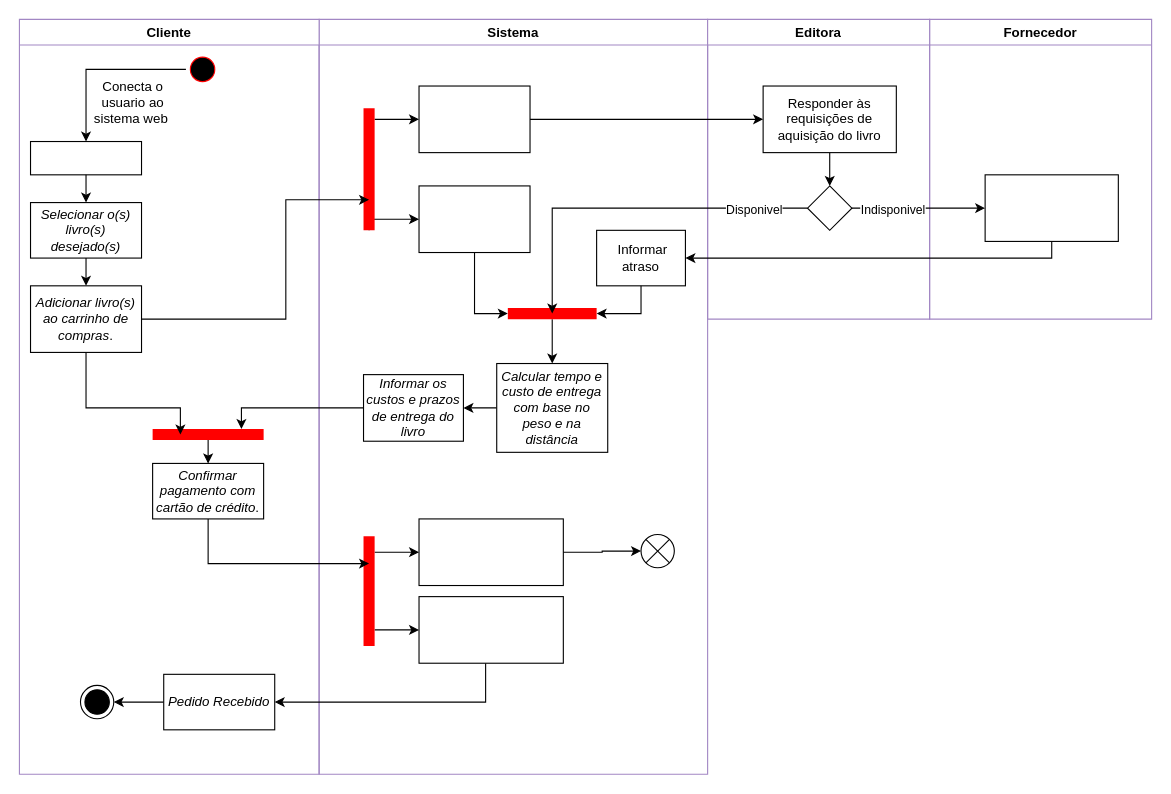
This 1171x794 diagram has some shape labels left out. The shapes that lost their labels are listed below. From the top down, each one's centre as x and y in pixels, then its label:
At (474,119): "Verificar disponibilidade em estoque".
At (85,157): "Acesso ao Site".
At (474,219): "Verificar Livro em Promoção".
At (1051,207): "Processar requisição do livro, e informar dados requisitados".
At (490,552): "Gerar sugestões de compras com base nos interesses anteriores dos compradores.".
At (490,629): "Expedir Encomenda conforme condiçoes".
